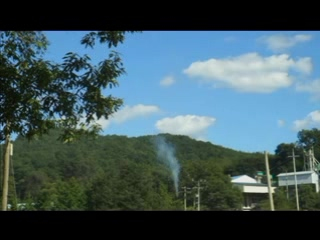smoke: (154, 137, 183, 201)
